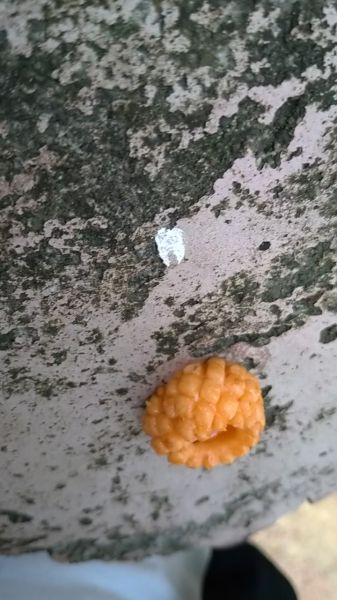eggs: (138, 348, 268, 471)
